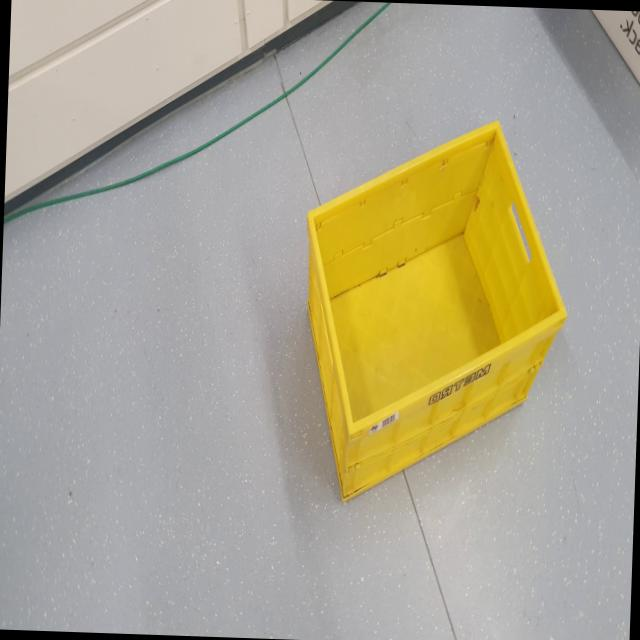box: (290, 104, 585, 519)
